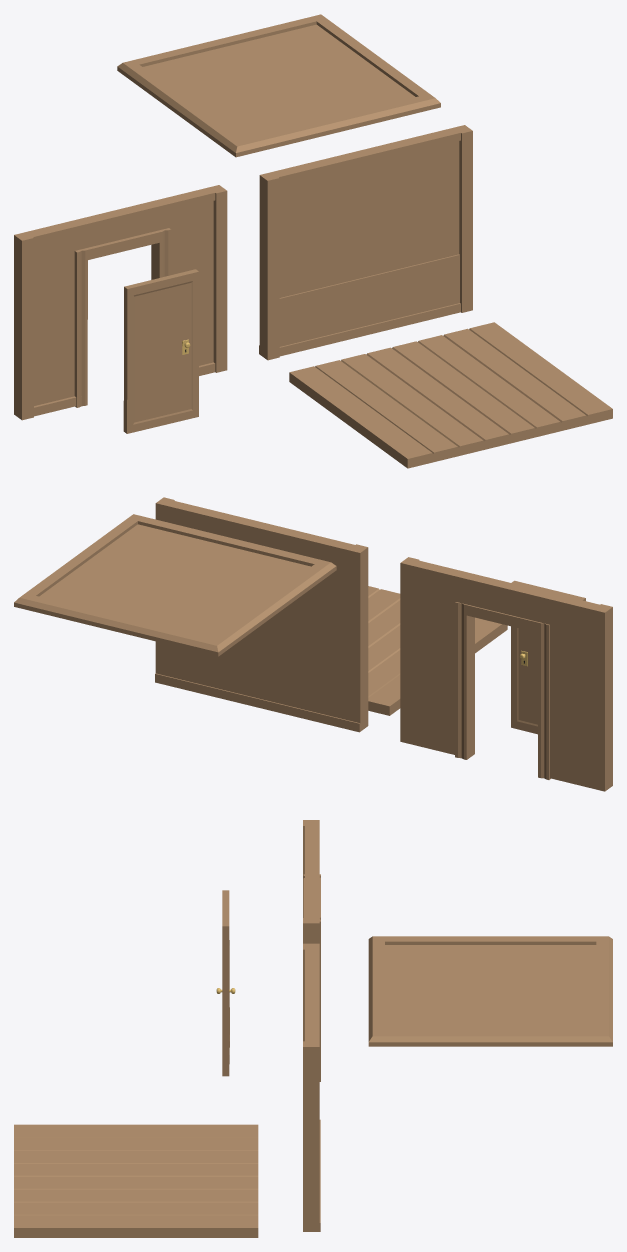
File: Wood Modular Building Pieces.fbx
The picture shows the model from 3 angles, top to bottom: view 1: azimuth 30°, elevation 25°; view 2: azimuth 150°, elevation 25°; view 3: azimuth 270°, elevation 25°; orthographic projection. The views are drawn at different scales.
Visible parts, largest first — view 1: Wooden Wall, Floor, Ceiling, Wooden Doorway, Door; view 2: Wooden Doorway, Ceiling, Wooden Wall, Floor, Door; view 3: Floor, Ceiling, Wooden Wall, Wooden Doorway, Door.
Part boxes in pixels (x1,y1,x2,y2): Wooden Wall: [259, 125, 472, 360]; Floor: [289, 322, 612, 468]; Ceiling: [117, 14, 440, 157]; Wooden Doorway: [14, 185, 227, 420]; Door: [123, 269, 198, 433]; Wooden Doorway: [400, 557, 612, 791]; Ceiling: [14, 514, 336, 656]; Wooden Wall: [155, 497, 368, 732]; Floor: [368, 586, 507, 715]; Door: [511, 580, 585, 734]; Floor: [14, 1124, 258, 1237]; Ceiling: [368, 936, 612, 1046]; Wooden Wall: [303, 943, 320, 1231]; Wooden Doorway: [303, 820, 320, 1081]; Door: [216, 890, 235, 1076].
Bounding box in the file's own units: 656 × 270 × 732.
